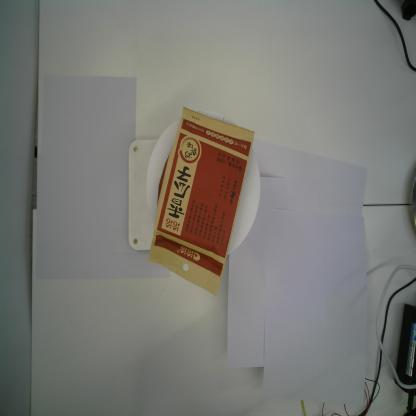Dried Food: (148, 104, 255, 298)
